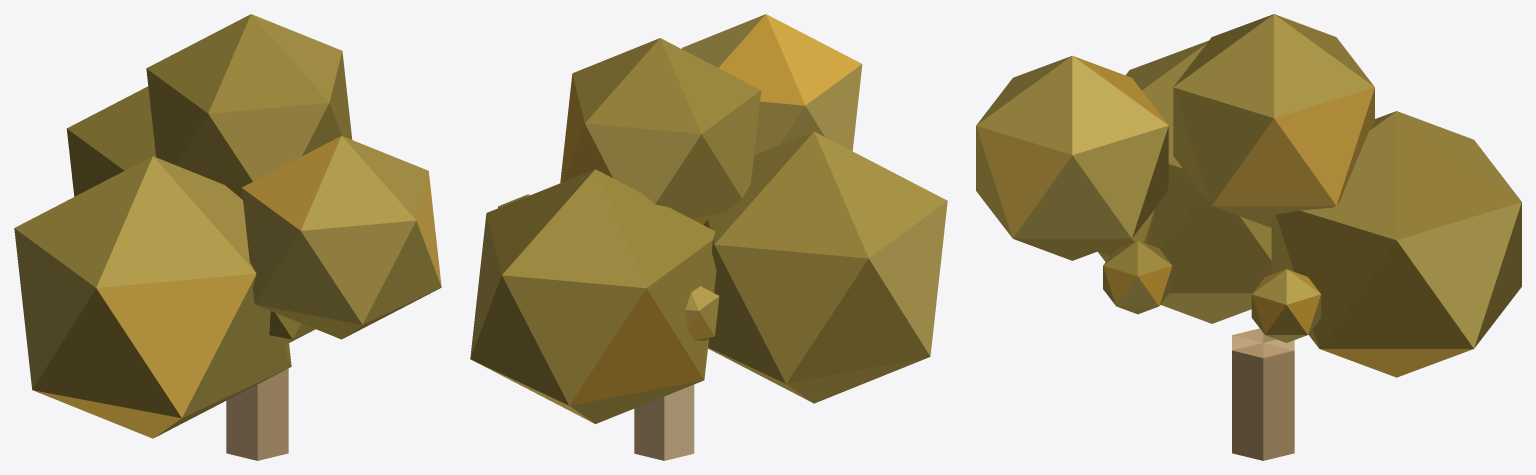
File: Plant_Berry_b.fbx
3 renders of one model, left to right at view 1: azimuth 30°, elevation 25°; view 2: azimuth 150°, elevation 25°; view 3: azimuth 270°, elevation 25°, orthographic. The views are drawn at different scales.
Visible parts, largest first — view 1: Plant_Berry_b; view 2: Plant_Berry_b; view 3: Plant_Berry_b.
Boxes of the visible parts, x1,y1,x2,y2 form: Plant_Berry_b: (14,14,441,460); Plant_Berry_b: (470,14,947,460); Plant_Berry_b: (976,14,1521,460).
Size of what is drawn, in the model's own units: 0.5277 by 0.5242 by 0.6014.
